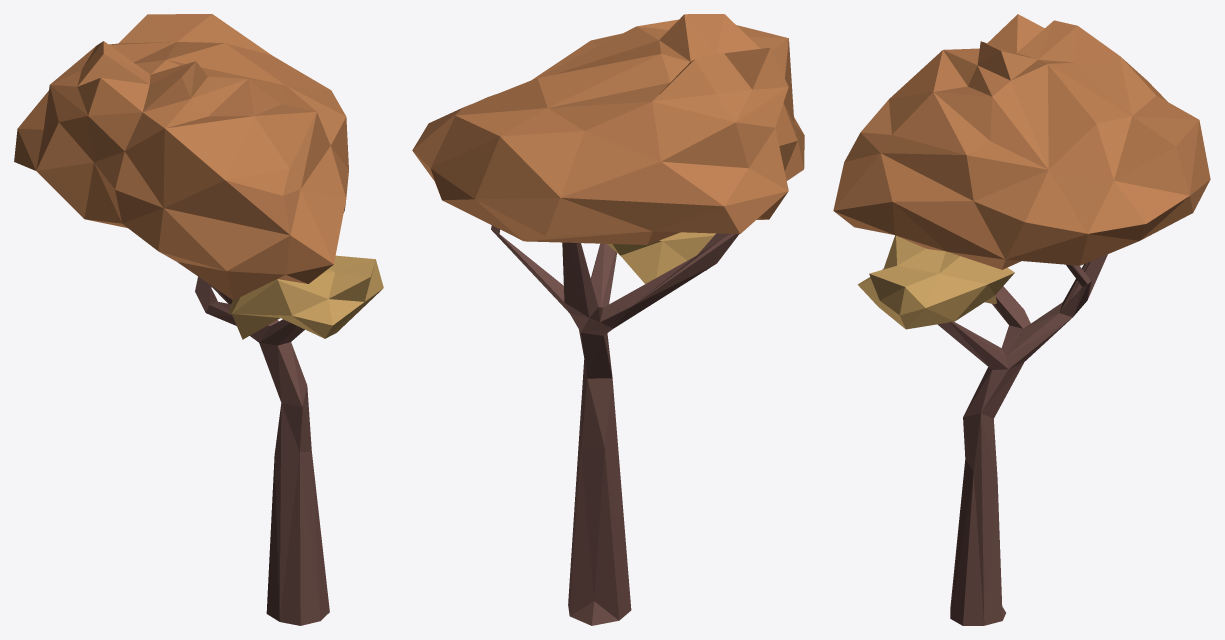
File: CommonTree_Autumn_4.lod2.glb
3 views of the same model, side by side, from view 1: azimuth 30°, elevation 25°; view 2: azimuth 150°, elevation 25°; view 3: azimuth 270°, elevation 25° (orthographic). The views are drawn at different scales.
Parts seen in each view (by area): view 1: CommonTree_Autumn_4; view 2: CommonTree_Autumn_4; view 3: CommonTree_Autumn_4.
Boxes of the visible parts, x1,y1,x2,y2 form: CommonTree_Autumn_4: (14, 14, 383, 625); CommonTree_Autumn_4: (412, 14, 804, 625); CommonTree_Autumn_4: (833, 14, 1210, 625).
Bounding box in the file's own units: 1.58 × 2.78 × 1.8.
